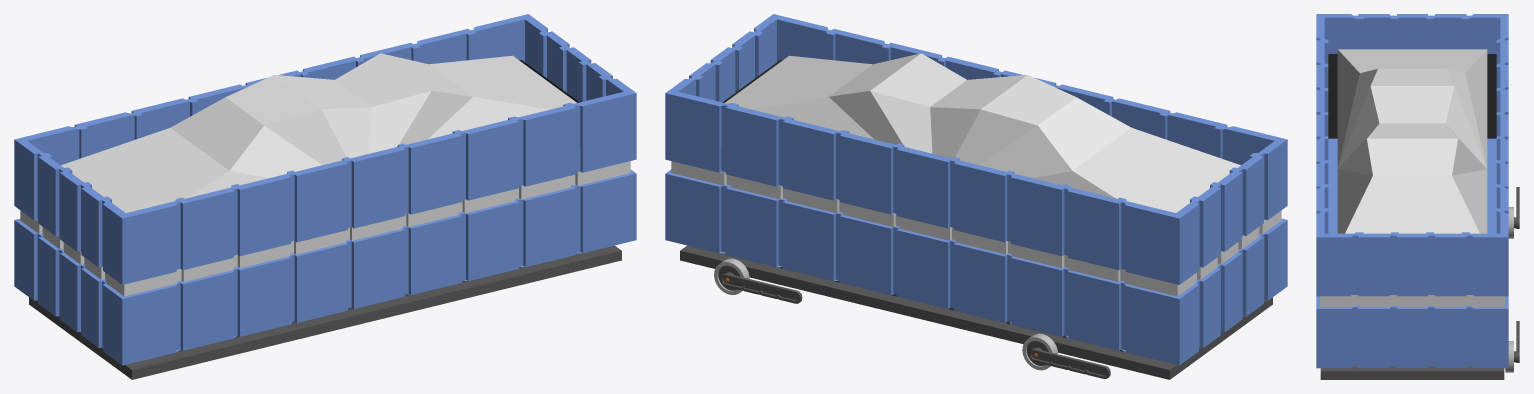
The model's file is charcoal_container.glb.
3 renders of one model, left to right at view 1: azimuth 30°, elevation 25°; view 2: azimuth 150°, elevation 25°; view 3: azimuth 270°, elevation 25°, orthographic. The views are drawn at different scales.
Visible parts, largest first — view 1: Container, Charcoal, Base; view 2: Container, Charcoal, Base, WheelConector, WheelConector.001, Wheel, Wheel.001; view 3: Container, Charcoal, Base, Charcoal_background, Wheel.001, Wheel.
Boxes of the visible parts, x1,y1,x2,y2 form: Container: (14, 14, 636, 365); Charcoal: (61, 53, 576, 212); Base: (29, 245, 621, 379); Container: (665, 14, 1287, 365); Charcoal: (725, 53, 1240, 212); Base: (680, 245, 1272, 379); WheelConector: (1028, 348, 1110, 378); WheelConector.001: (720, 273, 802, 303); Wheel: (1022, 333, 1057, 370); Wheel.001: (714, 258, 749, 294); Container: (1316, 14, 1508, 368); Charcoal: (1337, 49, 1487, 233); Base: (1320, 366, 1504, 379); Charcoal_background: (1328, 54, 1496, 138); Wheel.001: (1505, 341, 1516, 372); Wheel: (1508, 207, 1516, 238).
Size of the model in its own units: 10.98 by 4.37 by 4.23.
